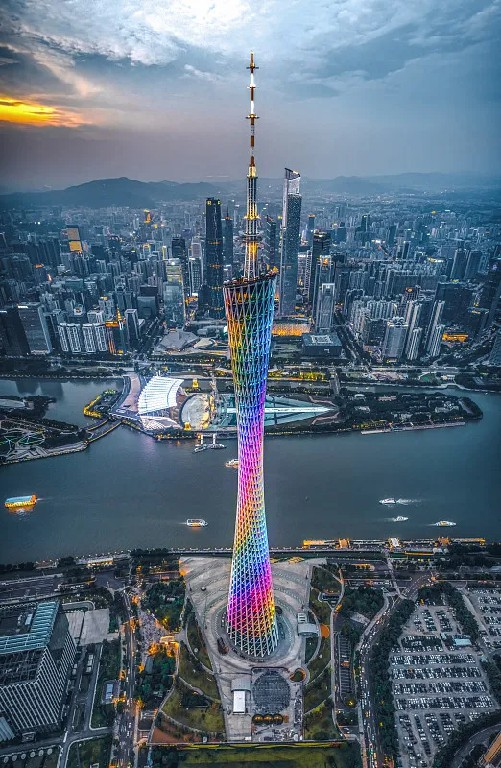Canton: (217, 53, 285, 661)
